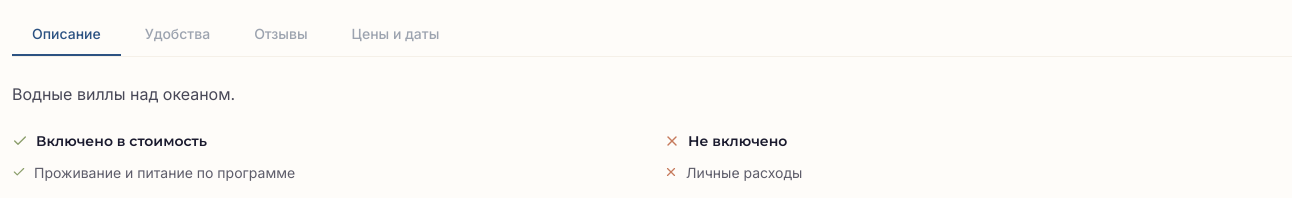
TourTabs reviews › marks the empty reviews tab as not ready
Click the button "Отзывы" at [281, 34], box [234,12,328,56]
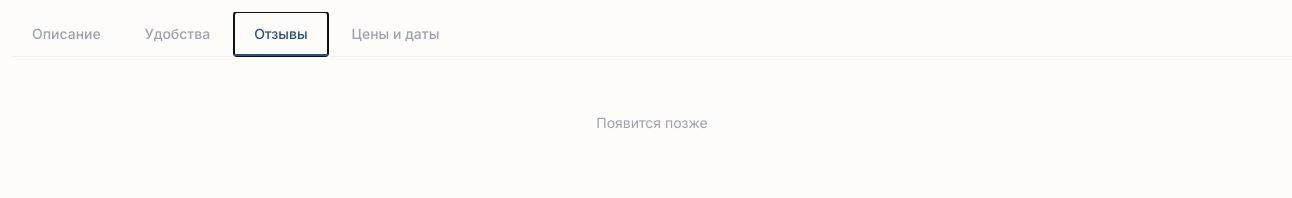
Check: the text "Появится позже" is shown, box [596,114,708,131]
